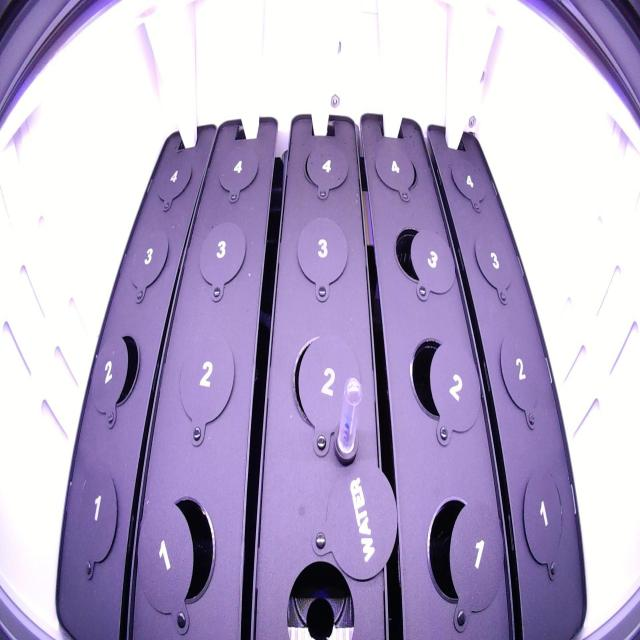empty_pod: (286, 328, 364, 452), (421, 490, 496, 618), (149, 492, 216, 606), (176, 326, 237, 441), (404, 330, 470, 430), (516, 465, 572, 576), (496, 326, 549, 430), (72, 462, 122, 570), (292, 211, 353, 298), (191, 216, 250, 300), (468, 217, 520, 307), (389, 220, 445, 292), (97, 329, 143, 416), (371, 138, 421, 210), (126, 220, 170, 301), (211, 137, 262, 206), (299, 137, 351, 200), (448, 146, 496, 212), (150, 151, 194, 217)
